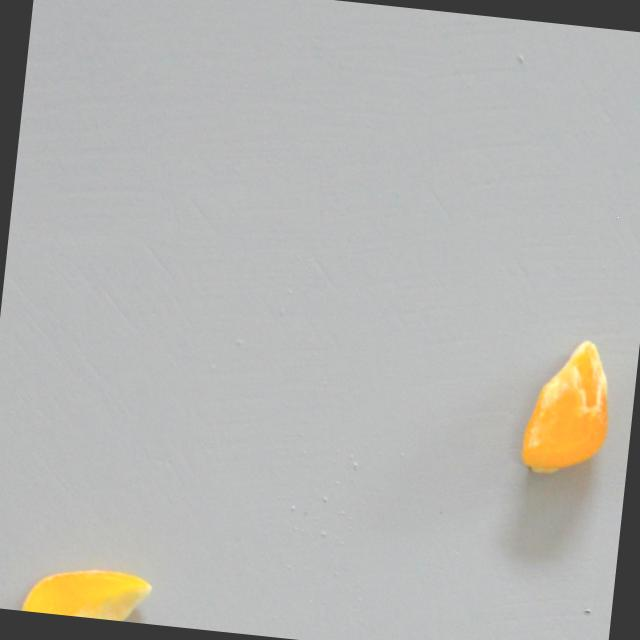estandar: (20, 560, 156, 624)
pelicula: (493, 354, 637, 462)
